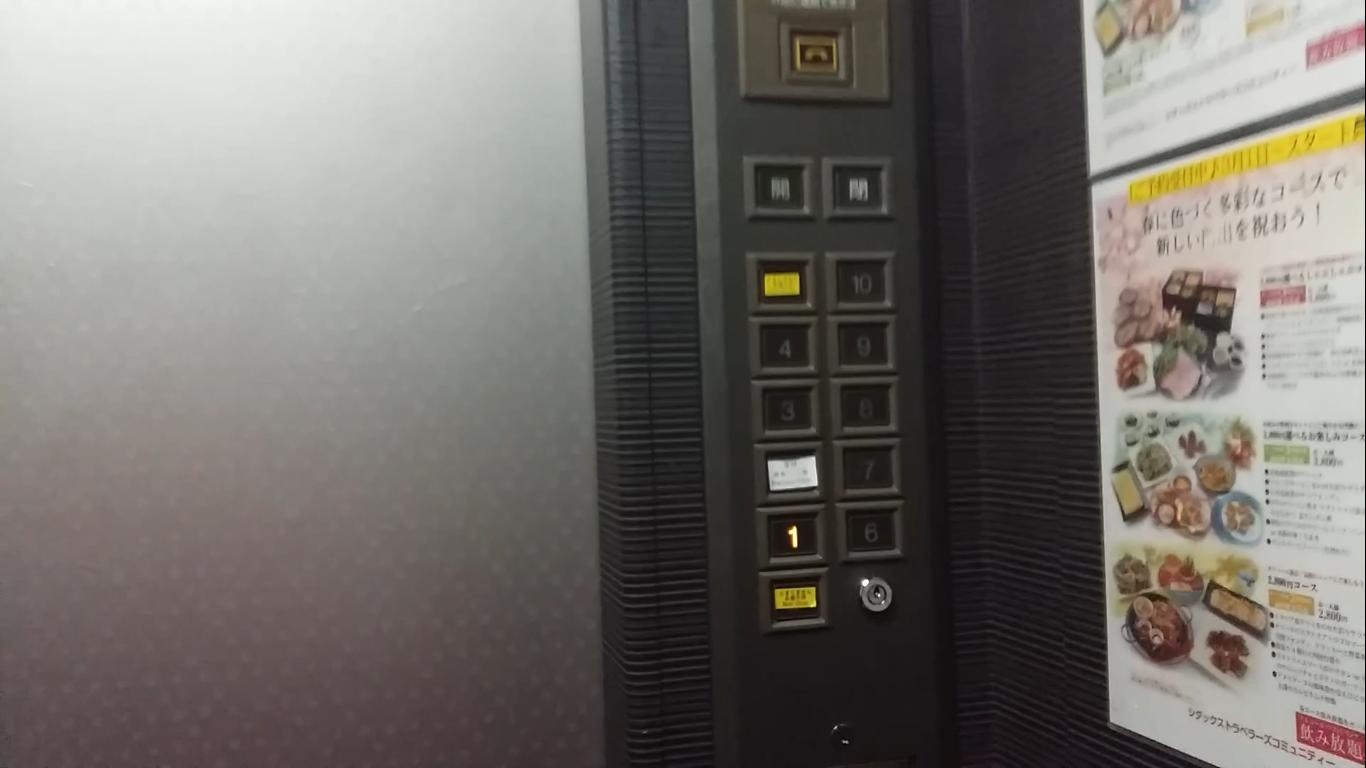1: (750, 501, 828, 572)
10: (820, 249, 897, 315)
3: (747, 377, 823, 442)
4: (747, 315, 820, 381)
6: (834, 501, 904, 564)
7: (830, 436, 901, 504)
8: (827, 371, 901, 439)
9: (825, 313, 898, 375)
blur: (747, 246, 820, 318), (754, 569, 832, 634), (753, 441, 826, 507)
call: (778, 17, 861, 88)
keyhole: (858, 574, 893, 616)
text: (739, 152, 820, 223), (821, 153, 895, 221)
